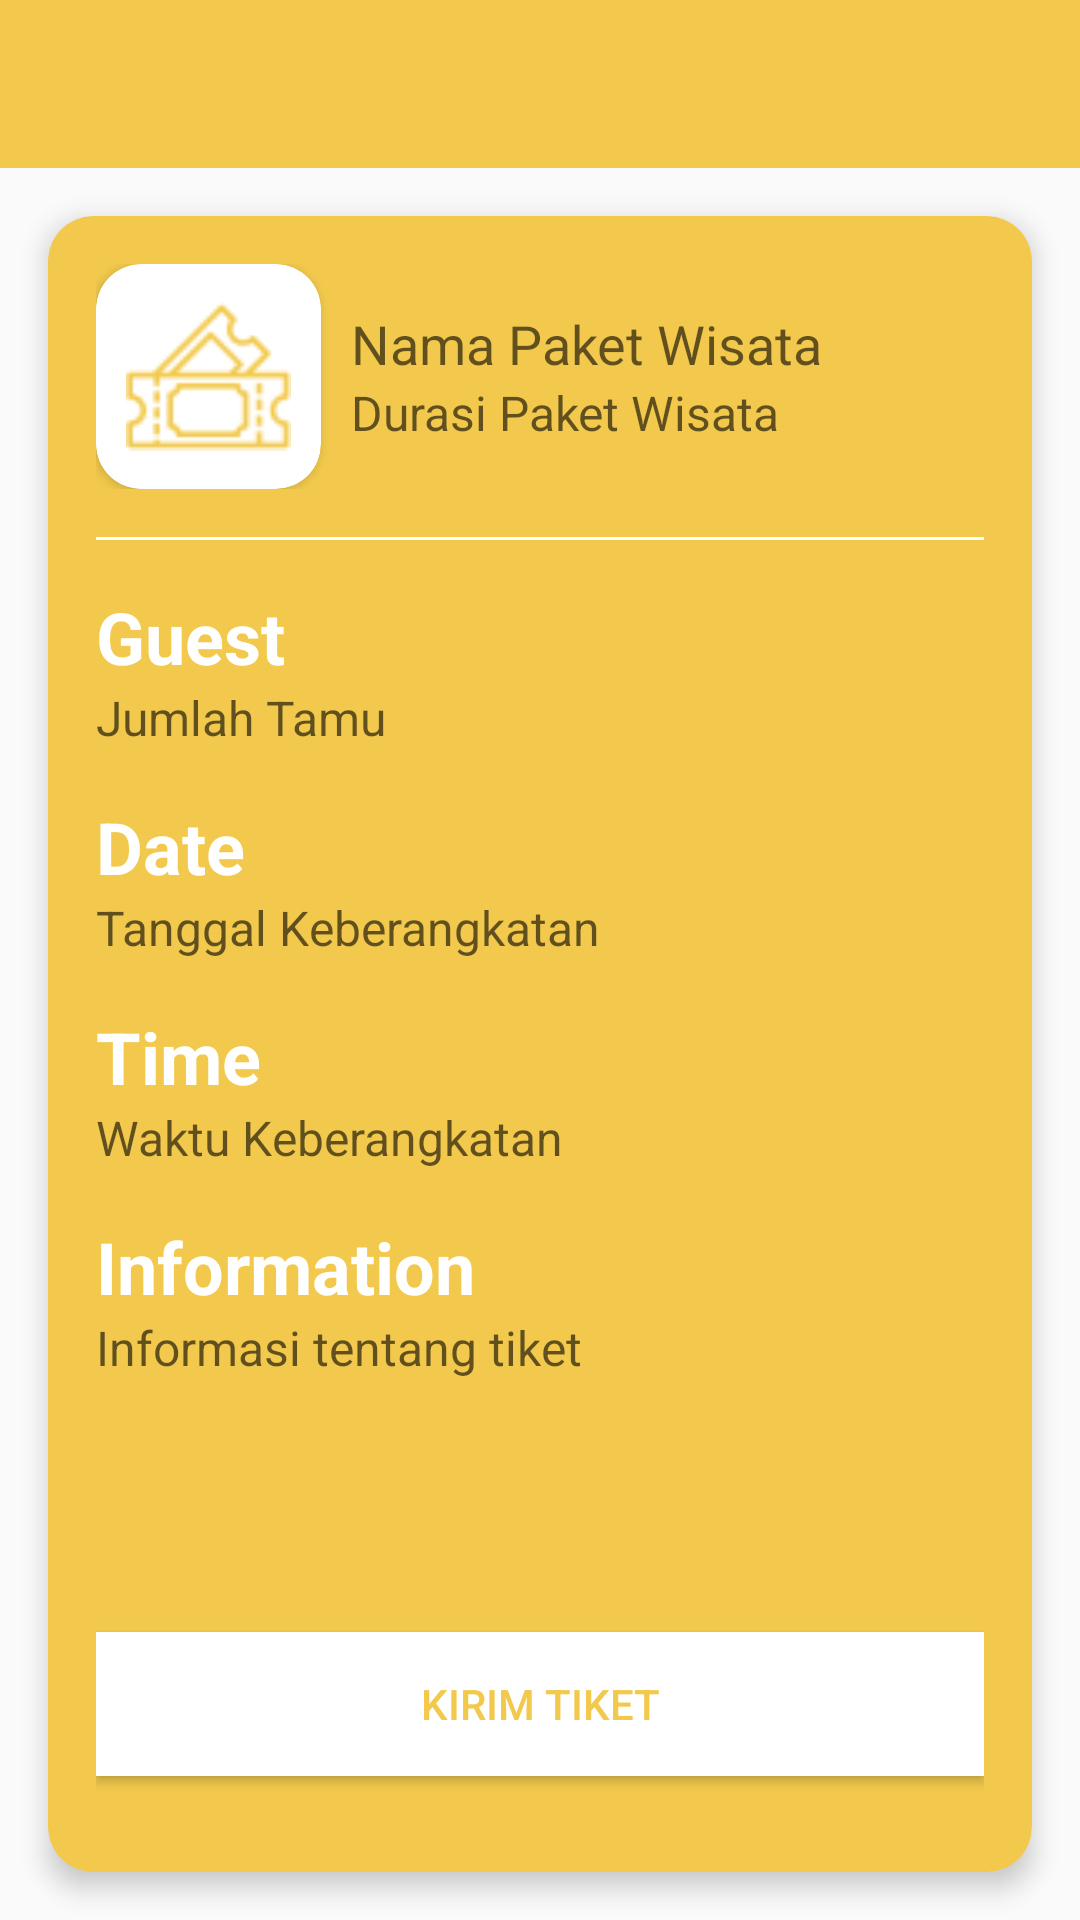

Icon bounding boxes for this 1080 × 1920 phone screenshot, format box(x1, y1, x2, y2):
tiket: box(126, 304, 291, 451)
